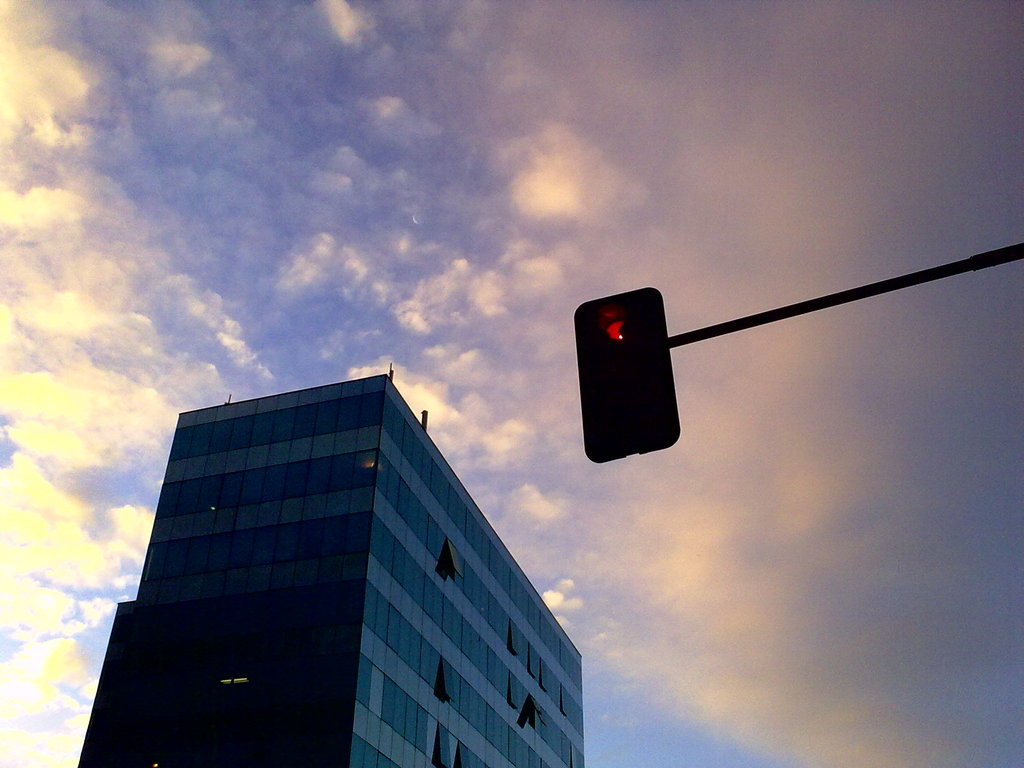red_light: (589, 298, 663, 452)
